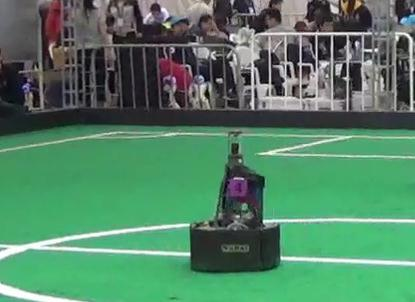robot: (177, 126, 288, 276)
